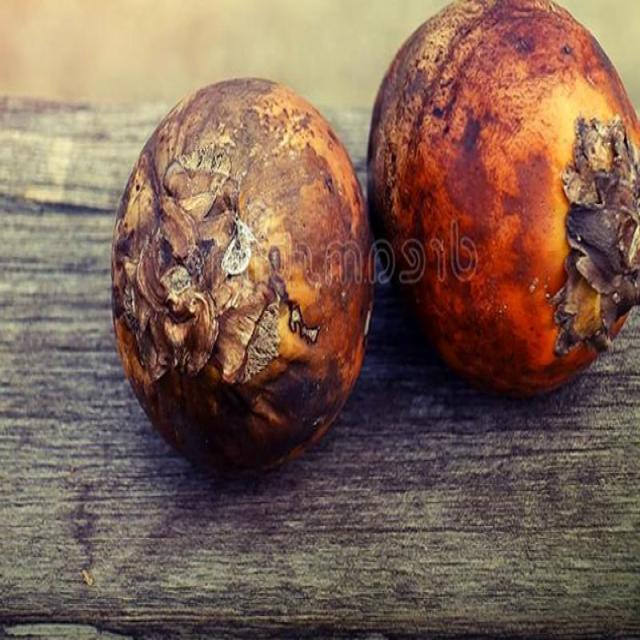damaged: (367, 0, 639, 401), (110, 78, 374, 479)
